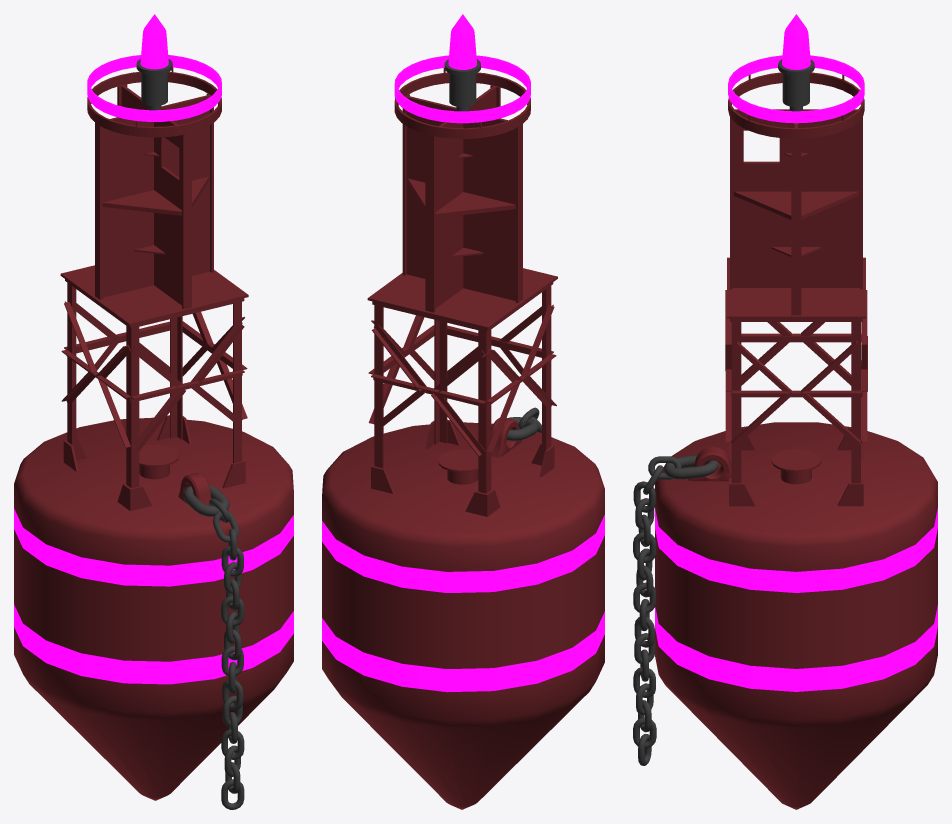
File: Buoy.fbx
3 views of the same model, side by side, from view 1: azimuth 30°, elevation 25°; view 2: azimuth 150°, elevation 25°; view 3: azimuth 270°, elevation 25° (orthographic).
Visible parts, largest first — view 1: Buoy, Chain; view 2: Buoy; view 3: Buoy, Chain.
Boxes of the visible parts, x1=… form: Buoy: x1=14, y1=14, x2=293, y2=800; Chain: x1=221, y1=528, x2=244, y2=809; Buoy: x1=322, y1=14, x2=604, y2=809; Buoy: x1=643, y1=14, x2=937, y2=809; Chain: x1=633, y1=481, x2=656, y2=765.
Size of the model in its own units: 129 by 401 by 139.
